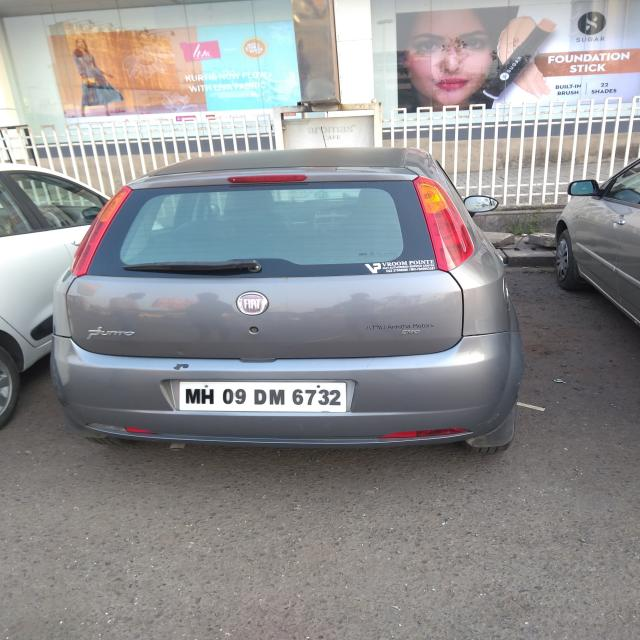Number-Plate: (180, 382, 348, 414)
